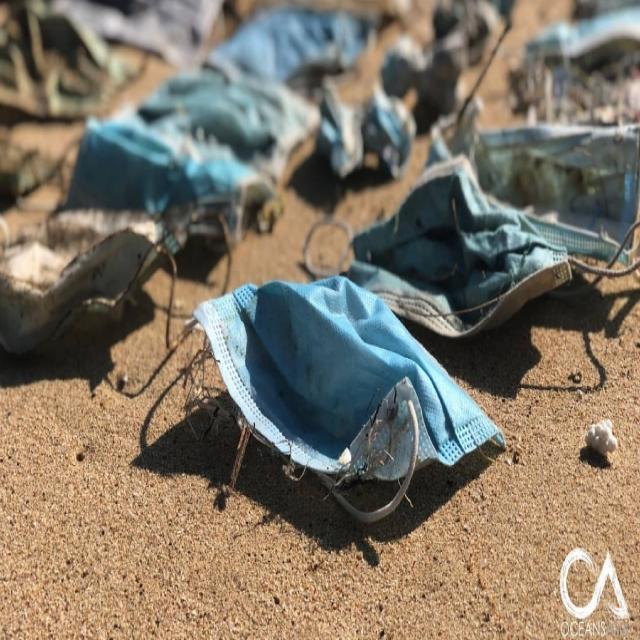Mask: (192, 272, 507, 524), (302, 148, 573, 339), (429, 96, 640, 272), (64, 109, 278, 241), (137, 63, 321, 184), (318, 72, 417, 185), (523, 2, 640, 72)
